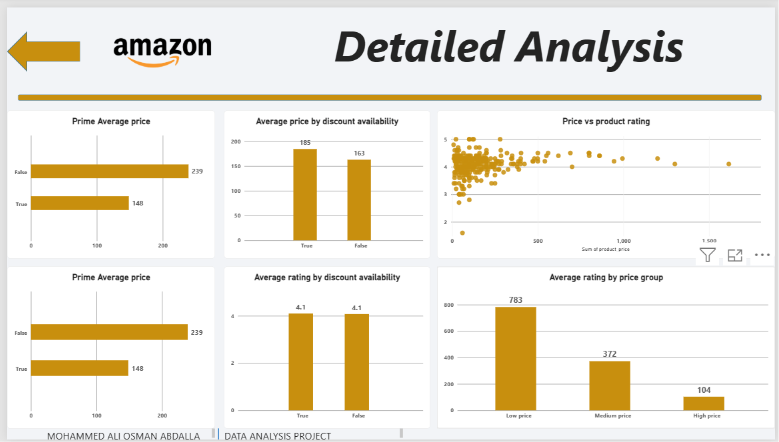

What the dashboard file says about the page in this screenshot:
{"tool":"powerbi","page":{"name":"Detailed analysis","canvas":[1920,1080],"ordinal":2},"visuals":[{"type":"shape","box":[28.5,217.5,1858.8,15.5],"z":0},{"type":"image","box":[92.5,60,592.5,107.5],"z":1000},{"type":"textbox","box":[623,19,1264,150],"z":2000},{"type":"clusteredColumnChart","title":"Average price by discount availability","fields":{"Category":["Amazon_cleaned_data.Discount_Available"],"Y":["Amazon_cleaned_data.Average price"]},"box":[542.5,257.5,515,370],"z":3000},{"type":"clusteredColumnChart","title":"Average rating by discount availability","fields":{"Category":["Amazon_cleaned_data.Discount_Available"],"Y":["Amazon_cleaned_data.Average rating"]},"box":[542.5,647.5,515,432.5],"z":4000},{"type":"clusteredBarChart","title":"Prime Average price","fields":{"Category":["Amazon_cleaned_data.is_prime"],"Y":["Amazon_cleaned_data.Average price"]},"box":[0,647.5,520,432.5],"z":5000},{"type":"clusteredBarChart","title":"Prime Average price","fields":{"Category":["Amazon_cleaned_data.is_prime"],"Y":["Amazon_cleaned_data.Average price"]},"box":[0,257.5,520,370],"z":6000},{"type":"scatterChart","title":"Price vs product rating","fields":{"Category":["Amazon_cleaned_data.asin"],"X":["Sum(Amazon_cleaned_data.product_price)"],"Y":["Sum(Amazon_cleaned_data.product_star_rating)"]},"box":[1075,257.5,845,370],"z":7000},{"type":"clusteredColumnChart","title":"Average rating by price group","fields":{"Category":["Amazon_cleaned_data.Price groups"],"Y":["Sum(Amazon_cleaned_data.product_star_rating)"]},"box":[1075,648,845,432],"z":8000},{"type":"shape","box":[0,60,182.5,100],"z":8001}]}

Visuals, with their boxes in screenshot pixels (x1, y1, x2, y2), scaled from the page's 1920x1080 canvas onto the 779x442 screenshot:
shape: (x1=12, y1=89, x2=766, y2=95)
image: (x1=38, y1=25, x2=278, y2=69)
textbox: (x1=253, y1=8, x2=766, y2=69)
"Average price by discount availability" clusteredColumnChart: (x1=220, y1=105, x2=429, y2=257)
"Average rating by discount availability" clusteredColumnChart: (x1=220, y1=265, x2=429, y2=441)
"Prime Average price" clusteredBarChart: (x1=0, y1=265, x2=211, y2=441)
"Prime Average price" clusteredBarChart: (x1=0, y1=105, x2=211, y2=257)
"Price vs product rating" scatterChart: (x1=436, y1=105, x2=778, y2=257)
"Average rating by price group" clusteredColumnChart: (x1=436, y1=265, x2=778, y2=441)
shape: (x1=0, y1=25, x2=74, y2=65)
